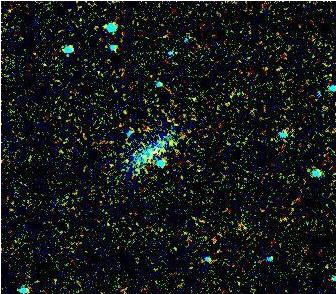star: (158, 125, 188, 155)
